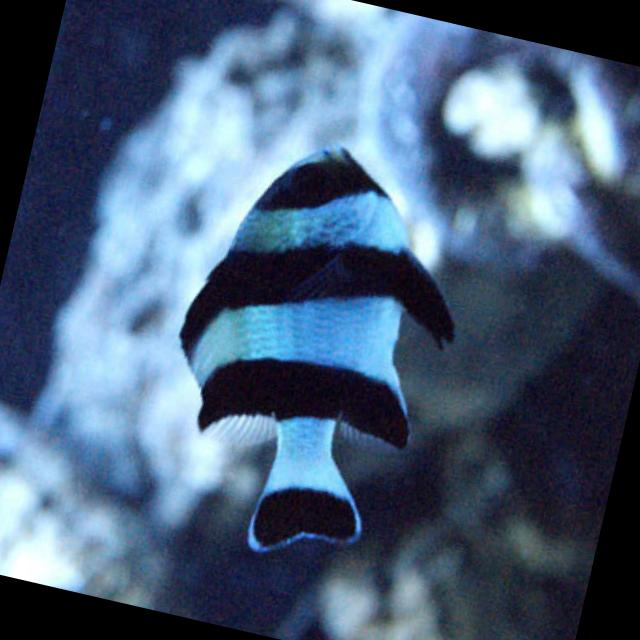ThreeStripedDamselfish: (180, 144, 458, 553)
